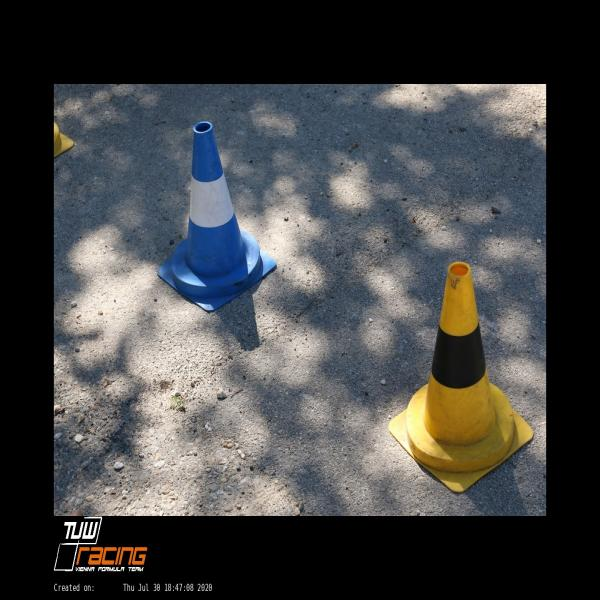blue_cone: (157, 123, 277, 311)
yellow_cone: (388, 260, 534, 492)
